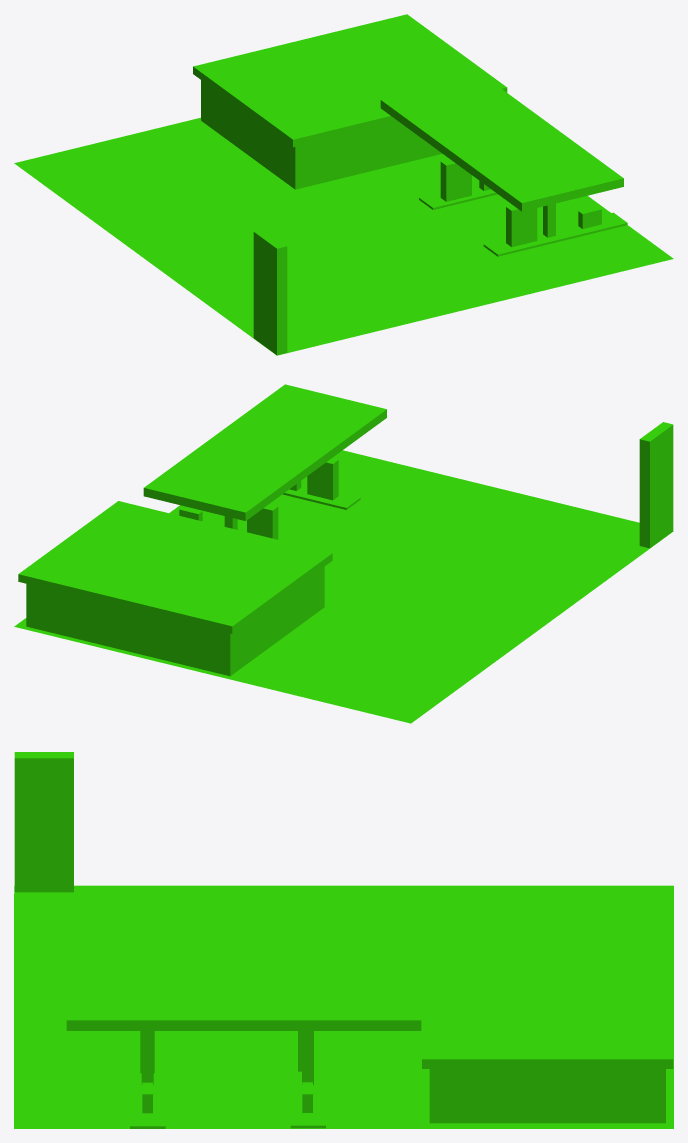
File: gas_station_1.glb
3 renders of one model, top to bottom at view 1: azimuth 30°, elevation 25°; view 2: azimuth 150°, elevation 25°; view 3: azimuth 270°, elevation 25°, orthographic. The views are drawn at different scales.
Visible parts, largest first — view 1: GasStation-col; view 2: GasStation-col; view 3: GasStation-col.
Boxes of the visible parts, x1,y1,x2,y2 form: GasStation-col: (14, 14, 673, 355); GasStation-col: (14, 384, 673, 723); GasStation-col: (14, 752, 673, 1128).
Size of the model in its own units: 19.46 by 5 by 22.34.
